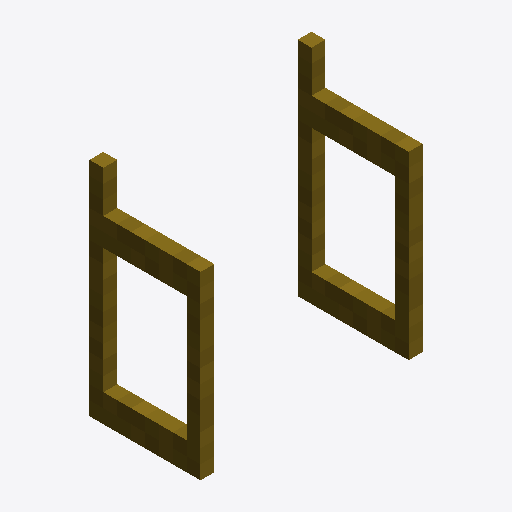
Isometric view (azimuth 45°, elevation 35.3°) of a Minecraft model made of 8 cuboids, textured from the same repository.
Visible parts, largest first — side post (×2), top bar (×2), bottom bar (×2), side bar (×2).
Boxes of the visible parts, x1=… form: side post (×2): x1=89, y1=32, x2=324, y2=423; top bar (×2): x1=103, y1=88, x2=422, y2=303; bottom bar (×2): x1=103, y1=264, x2=422, y2=479; side bar (×2): x1=187, y1=176, x2=422, y2=447.
Size of the model in its own units: 16 by 16 by 8.